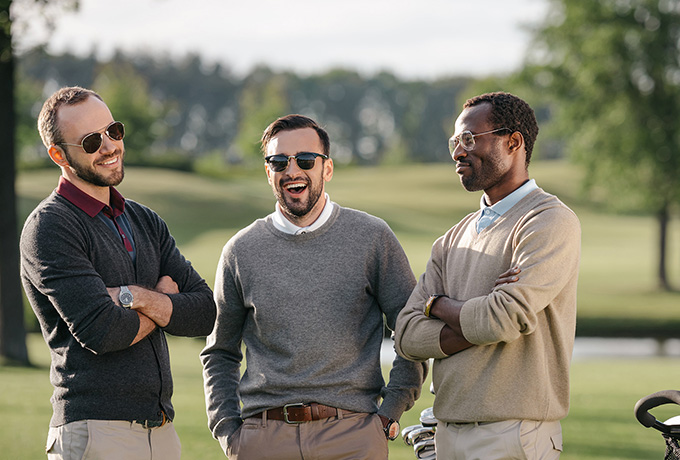NOTSAFE: (19, 83, 174, 419), (435, 85, 582, 407), (238, 115, 386, 407)
